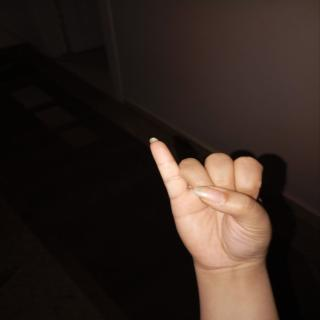MEEM: (137, 128, 293, 288)
